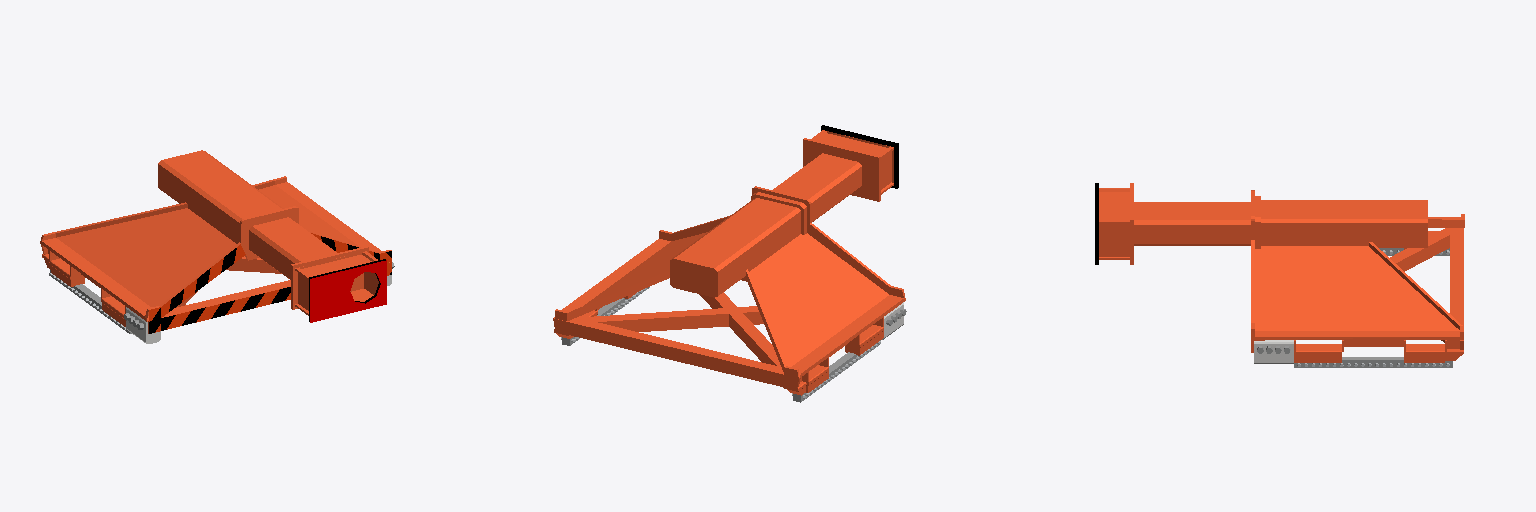
3 renders of one model, left to right at view 1: azimuth 30°, elevation 25°; view 2: azimuth 150°, elevation 25°; view 3: azimuth 270°, elevation 25°, orthographic.
Parts seen in each view (by area): view 1: 1.003, 2.005, 1.009, 2.001, 2.004, 1.004, 2.002, 1.005, 1.013, 2, 2.003; view 2: 1.003, 2.005, 1.004, 1.013, 2.004, 1.002, 2.003, 1.001, 2.002, 2.001; view 3: 1.004, 2.005, 2.004, 2.002, 1.013, 1.001, 1.029, 1.030.
Part boxes in pixels (x1,y1,x2,y2): 1.003: (40,202,240,321); 2.005: (158,150,283,243); 1.009: (149,233,391,333); 2.001: (309,259,386,322); 2.004: (249,217,336,279); 1.004: (252,176,391,253); 2.002: (295,251,377,315); 1.005: (240,206,298,260); 1.013: (162,262,389,317); 2: (350,272,378,301); 2.003: (291,246,368,309); 1.003: (745,222,905,378); 2.005: (670,198,800,297); 1.004: (555,215,730,320); 1.013: (567,277,784,387); 2.004: (773,153,861,222); 1.002: (575,306,763,331); 2.003: (803,138,880,201); 1.001: (699,292,783,372); 2.002: (811,130,893,194); 2.001: (821,125,898,188); 1.004: (1251,240,1463,339); 2.005: (1261,200,1427,247); 2.004: (1134,202,1250,245); 2.002: (1099,188,1129,259); 1.013: (1251,228,1463,352); 1.001: (1390,228,1460,271); 1.029: (1294,357,1452,367); 1.030: (1254,340,1293,363).
Bounding box in the file's own units: 1.66 × 0.6745 × 2.09.
Materials: 20 (2 with a texture image).